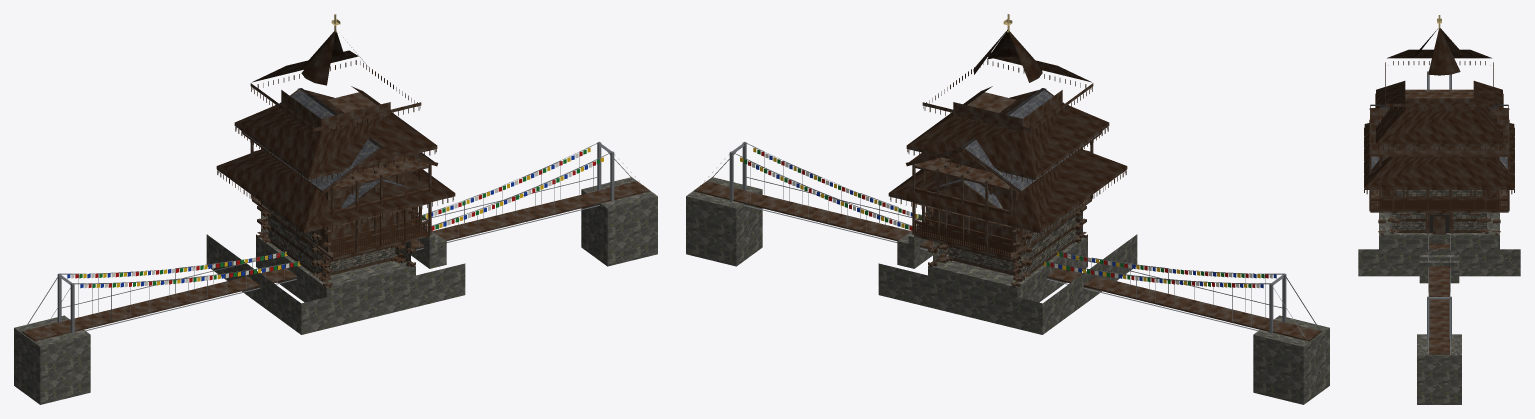
File: highvale-village.glb
3 views of the same model, side by side, from view 1: azimuth 30°, elevation 25°; view 2: azimuth 150°, elevation 25°; view 3: azimuth 270°, elevation 25° (orthographic). The views are drawn at different scales.
Visible parts, largest first — view 1: temple, bridge, house_v1_s2, house_v1_s3, house_v0_s2, house_v2_s3, house_v0_s3; view 2: temple, bridge, house_v1_s2, house_v1_s3, house_v0_s2, house_v2_s3, house_v0_s3; view 3: temple, house_v1_s2, bridge, house_v1_s3, house_v0_s2, house_v0_s3, house_v2_s2.
Boxes of the visible parts, box(x1,y1,x2,y2) form: temple: box(206, 14, 465, 334); bridge: box(14, 141, 657, 404); house_v1_s2: box(250, 179, 431, 302); house_v1_s3: box(242, 88, 438, 261); house_v0_s2: box(260, 201, 421, 281); house_v2_s3: box(326, 160, 415, 275); house_v0_s3: box(306, 94, 428, 275); temple: box(878, 14, 1137, 334); bridge: box(686, 141, 1329, 404); house_v1_s2: box(912, 179, 1093, 302); house_v1_s3: box(905, 88, 1101, 261); house_v0_s2: box(922, 201, 1083, 281); house_v2_s3: box(928, 160, 1017, 275); house_v0_s3: box(915, 94, 1037, 276); temple: box(1358, 15, 1520, 283); house_v1_s2: box(1369, 156, 1509, 249); bridge: box(1417, 71, 1461, 404); house_v1_s3: box(1369, 104, 1509, 198); house_v0_s2: box(1379, 190, 1499, 233); house_v0_s3: box(1379, 106, 1499, 231); house_v2_s2: box(1386, 190, 1492, 197).
Size of the model in its own units: 49 by 23.15 by 13.
Materials: 10 (5 with a texture image).
